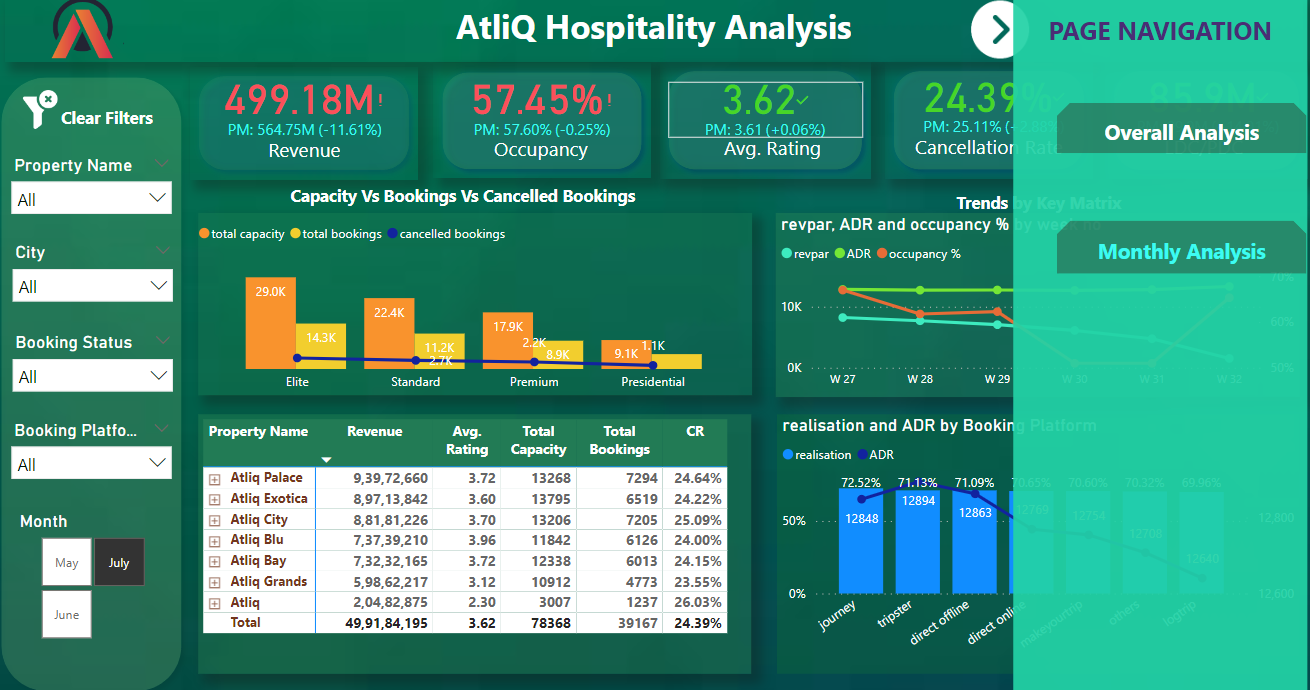

The page's visual inventory and layout, read from the dashboard file:
{"tool":"powerbi","page":{"name":"Overall Analysis","canvas":[1280,720],"ordinal":0},"visuals":[{"type":"image","box":[0,0,1280,720],"z":0},{"type":"shape","box":[12.1,12.1,1253.1,63.9],"z":1000},{"type":"textbox","box":[12.1,9.4,1257.4,61.9],"z":2000},{"type":"image","title":"atliq","box":[36.2,0,96.5,77.2],"z":4000},{"type":"shape","box":[0,77.1,191.4,610],"z":5000},{"type":"slicer","fields":{"Values":["dim_hotels.city"]},"box":[9.6,240,174.9,67.5],"z":6000},{"type":"slicer","fields":{"Values":["fact_bookings.booking_status"]},"box":[9.6,326.8,174.9,67.5],"z":7000},{"type":"slicer","fields":{"Values":["fact_bookings.booking_platform"]},"box":[8.4,411.3,174.9,67.5],"z":8000},{"type":"slicer","fields":{"Values":["dim_date.mmm yy.Variation.Date Hierarchy.Month"]},"box":[9.6,495.7,174.9,67.5],"z":9000},{"type":"slicer","fields":{"Values":["dim_hotels.property_name"]},"box":[8.4,155.6,174.9,67.5],"z":10000},{"type":"slicer","fields":{"Values":["dim_date.week no"]},"box":[7.2,584.9,176.1,67.5],"z":11000},{"type":"shape","box":[8.4,671.8,1253.1,18.1],"z":12000},{"type":"textbox","box":[190.6,681.4,1026.3,28.9],"z":13000},{"type":"shape","box":[190.6,76,220.7,108.5],"z":14000},{"type":"card","fields":{"Values":["key_measures.revenue"]},"box":[214.7,85.6,173.7,47],"z":15000},{"type":"textbox","box":[214.7,132.7,173.7,38.6],"z":16000},{"type":"shape","box":[425.7,72.9,210,111.4],"z":17000},{"type":"shape","box":[644.3,71.4,204.3,112.9],"z":18000},{"type":"shape","box":[861.4,71.4,201.4,112.9],"z":19000},{"type":"shape","box":[1073.4,71.2,196.6,113.4],"z":20000},{"type":"card","fields":{"Values":["key_measures.occupancy %"]},"box":[436.6,77.2,189.3,54.3],"z":21000},{"type":"textbox","box":[436.6,127.8,189.3,43.4],"z":22000},{"type":"card","fields":{"Values":["key_measures.average rating"]},"box":[652.5,83.2,186.9,48.2],"z":23000},{"type":"textbox","box":[652.5,131.5,189.3,42.2],"z":24000},{"type":"card","fields":{"Values":["key_measures.CR"]},"box":[846.6,88,231.6,55.5],"z":25000},{"type":"textbox","box":[867.1,135.1,189.3,42.2],"z":26000},{"type":"card","fields":{"Values":["key_measures.Loss/Profit due to cancellation"]},"box":[1078.1,72.9,169.1,61.9],"z":27000},{"type":"textbox","box":[1073.4,135.1,191.8,38.6],"z":28000},{"type":"clusteredBarChart","title":"Revenue ","fields":{"Category":["dim_hotels.city"],"Y":["key_measures.revenue"]},"box":[191.4,221.4,190,164.3],"z":30000},{"type":"clusteredBarChart","title":"Occupancy % ","fields":{"Category":["dim_hotels.city"],"Y":["key_measures.occupancy %"]},"box":[590,221.4,194.3,165.7],"z":31000},{"type":"clusteredBarChart","title":"Average Rating","fields":{"Category":["dim_hotels.city"],"Y":["key_measures.average rating"]},"box":[392.9,221.4,188.6,165.7],"z":32000},{"type":"textbox","box":[190.6,190.6,594.6,32.6],"z":33000},{"type":"areaChart","fields":{"Category":["dim_date.week no"],"Y":["key_measures.revenue"],"Y2":["key_measures.average rating"]},"box":[797.1,220,467.1,168.6],"z":34000},{"type":"textbox","box":[900.9,190.6,312.4,31.4],"z":35000},{"type":"pivotTable","fields":{"Rows":["dim_hotels.property_name","dim_hotels.city"],"Values":["key_measures.revenue","key_measures.average rating","key_measures.occupancy %","key_measures.total bookings","key_measures.CR","key_measures.total cancelled bookings","key_measures.total capacity"]},"box":[184.3,425.7,655.7,235.7],"z":36000},{"type":"textbox","box":[373.9,394.4,312.4,31.4],"z":37000},{"type":"clusteredBarChart","title":"Bookings by Platform","fields":{"Category":["fact_bookings.booking_platform"],"Y":["key_measures.total bookings"]},"box":[848.6,410,208.6,261.4],"z":38000},{"type":"donutChart","title":"Occupancy Ratio","fields":{"Category":["dim_date.day_type"],"Y":["key_measures.occupancy %"]},"box":[1062.9,410,207.1,261.4],"z":39000},{"type":"image","box":[22.9,88.6,47.1,58.6],"z":40000},{"type":"textbox","box":[61.4,108.6,130,44.3],"z":41000},{"type":"image","title":"three dot menu","box":[1198.2,14.8,63.2,47.1],"z":45500}]}

Visuals, with their boxes on the page's 1280x720 design canvas (x1, y1, x2, y2). These are canvas units, not pixel positions in the 1310x690 screenshot, which may show the page scaled, cropped or inside an application window:
image: detection(0, 0, 1280, 720)
shape: detection(12, 12, 1265, 76)
textbox: detection(12, 9, 1270, 71)
"atliq" image: detection(36, 0, 133, 77)
shape: detection(0, 77, 191, 687)
slicer - dim_hotels.city: detection(10, 240, 184, 308)
slicer - fact_bookings.booking_status: detection(10, 327, 184, 394)
slicer - fact_bookings.booking_platform: detection(8, 411, 183, 479)
slicer - dim_date.mmm yy.Variation.Date Hierarchy.Month: detection(10, 496, 184, 563)
slicer - dim_hotels.property_name: detection(8, 156, 183, 223)
slicer - dim_date.week no: detection(7, 585, 183, 652)
shape: detection(8, 672, 1262, 690)
textbox: detection(191, 681, 1217, 710)
shape: detection(191, 76, 411, 184)
card - key_measures.revenue: detection(215, 86, 388, 133)
textbox: detection(215, 133, 388, 171)
shape: detection(426, 73, 636, 184)
shape: detection(644, 71, 849, 184)
shape: detection(861, 71, 1063, 184)
shape: detection(1073, 71, 1270, 185)
card - key_measures.occupancy %: detection(437, 77, 626, 132)
textbox: detection(437, 128, 626, 171)
card - key_measures.average rating: detection(652, 83, 839, 131)
textbox: detection(652, 132, 842, 174)
card - key_measures.CR: detection(847, 88, 1078, 144)
textbox: detection(867, 135, 1056, 177)
card - key_measures.Loss/Profit due to cancellation: detection(1078, 73, 1247, 135)
textbox: detection(1073, 135, 1265, 174)
"Revenue " clusteredBarChart: detection(191, 221, 381, 386)
"Occupancy % " clusteredBarChart: detection(590, 221, 784, 387)
"Average Rating" clusteredBarChart: detection(393, 221, 582, 387)
textbox: detection(191, 191, 785, 223)
areaChart - dim_date.week no x key_measures.revenue: detection(797, 220, 1264, 389)
textbox: detection(901, 191, 1213, 222)
pivotTable - dim_hotels.property_name x dim_hotels.city: detection(184, 426, 840, 661)
textbox: detection(374, 394, 686, 426)
"Bookings by Platform" clusteredBarChart: detection(849, 410, 1057, 671)
"Occupancy Ratio" donutChart: detection(1063, 410, 1270, 671)
image: detection(23, 89, 70, 147)
textbox: detection(61, 109, 191, 153)
"three dot menu" image: detection(1198, 15, 1261, 62)
